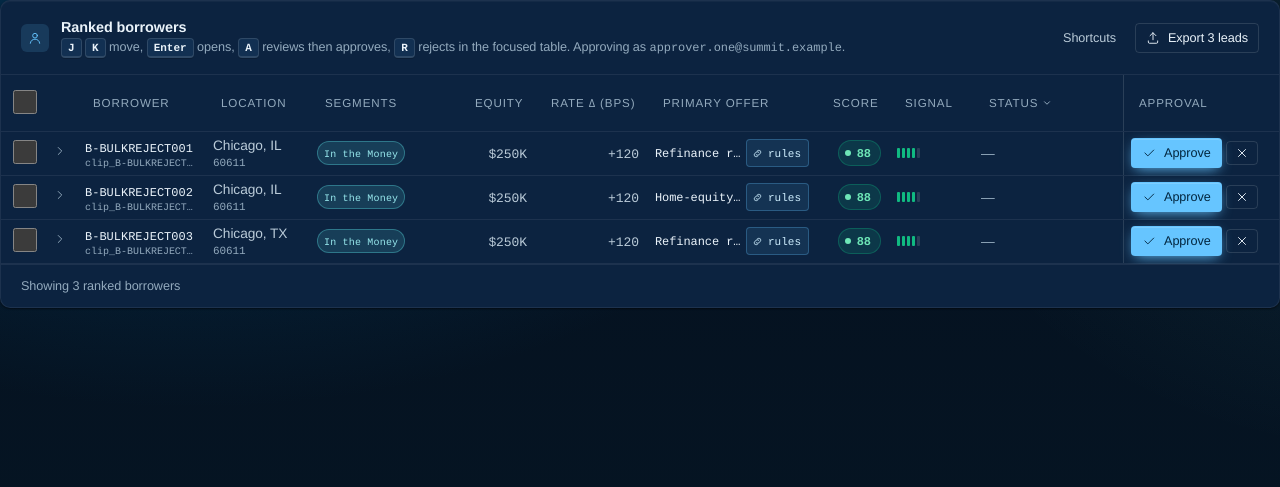
Test: LeadTable bulk Reject run › one eligible row opens that row's reject panel, never the gate
The image size is (1280, 487).
What coordinates should you click on to do the following:
click the checkbox named "Select lead B-BULKREJECT002"
I would click on:
 (25, 196)
Its box is [13,184,37,208].
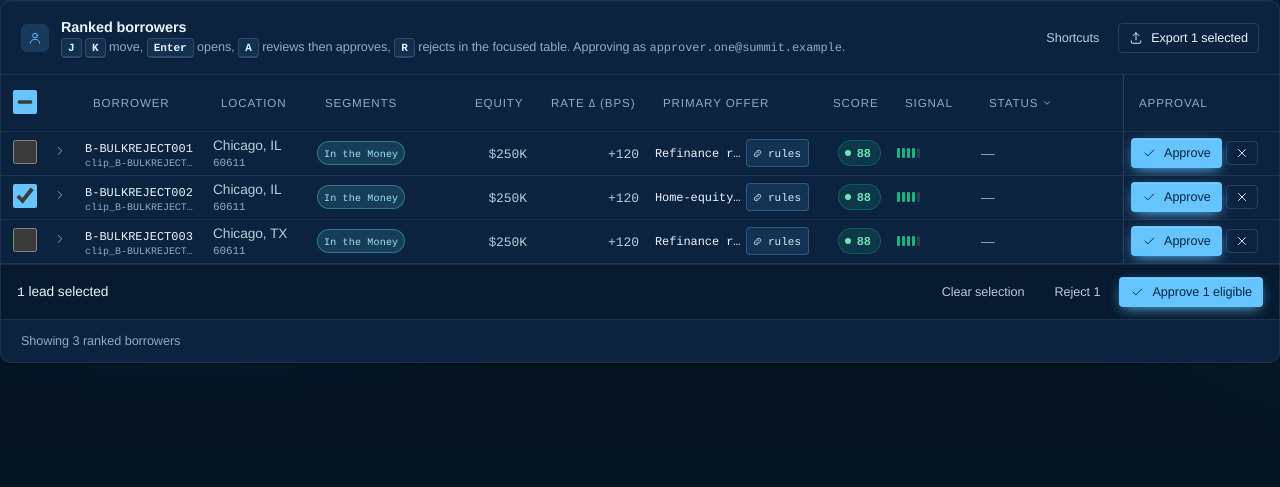
What coordinates should you click on to do the following:
click the button with test id "lead-bulk-reject"
I would click on:
 (1078, 292)
Its box is [1044,277,1112,307].
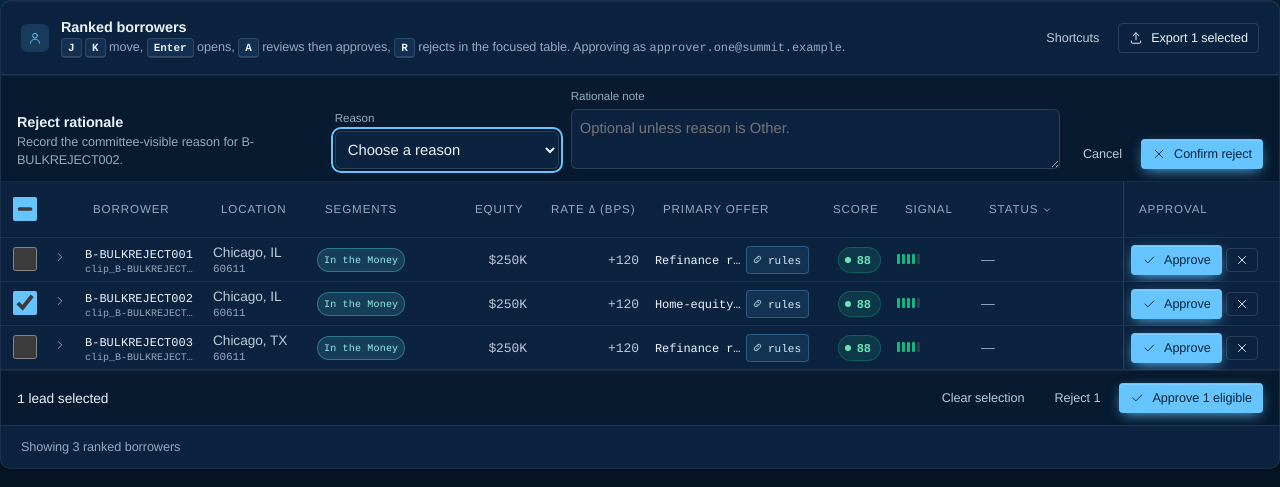
Expected: the form with class "decision-panel" shows "B-BULKREJECT002", [17,134,254,168]
